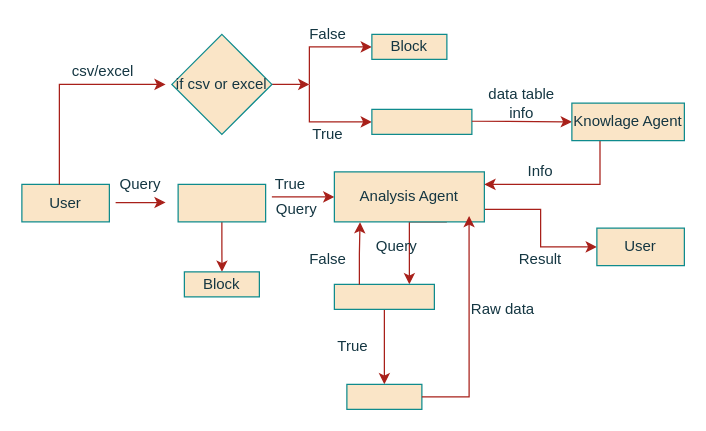
Image size: 706x431. Some labels were removed from this diagram. The centre of each missing label's shape, as x and y in pixels:
"analysis code" goes at (x=421, y=121).
"Database" goes at (x=384, y=396).
"Guardrails Agent" goes at (x=221, y=202).
"sql val code" goes at (x=383, y=296).
